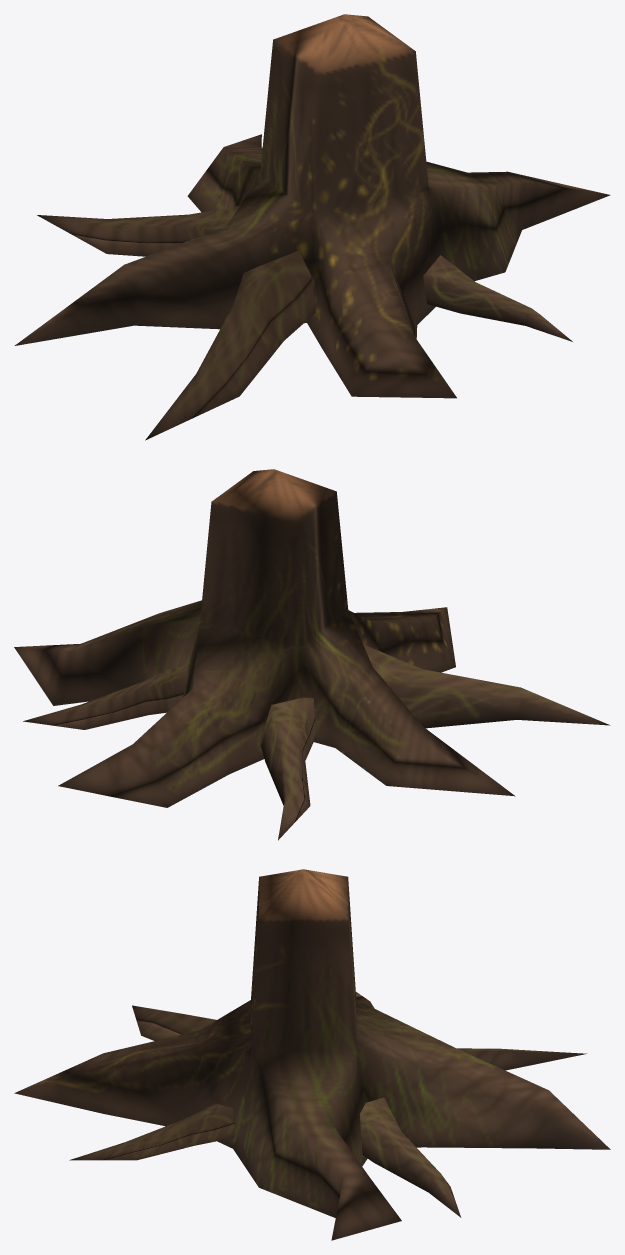
Rendered from Trunk1_MESH.fbx.
3 views of the same model, one above another, from view 1: azimuth 30°, elevation 25°; view 2: azimuth 150°, elevation 25°; view 3: azimuth 270°, elevation 25° (orthographic). The views are drawn at different scales.
Visible parts, largest first — view 1: polySurface6; view 2: polySurface6; view 3: polySurface6.
Boxes of the visible parts, x1=… form: polySurface6: x1=14, y1=14, x2=610, y2=440; polySurface6: x1=14, y1=469, x2=610, y2=840; polySurface6: x1=14, y1=869, x2=610, y2=1240.
Size of the model in its own units: 11.43 by 5.39 by 10.83.
Materials: 1 (1 with a texture image).
